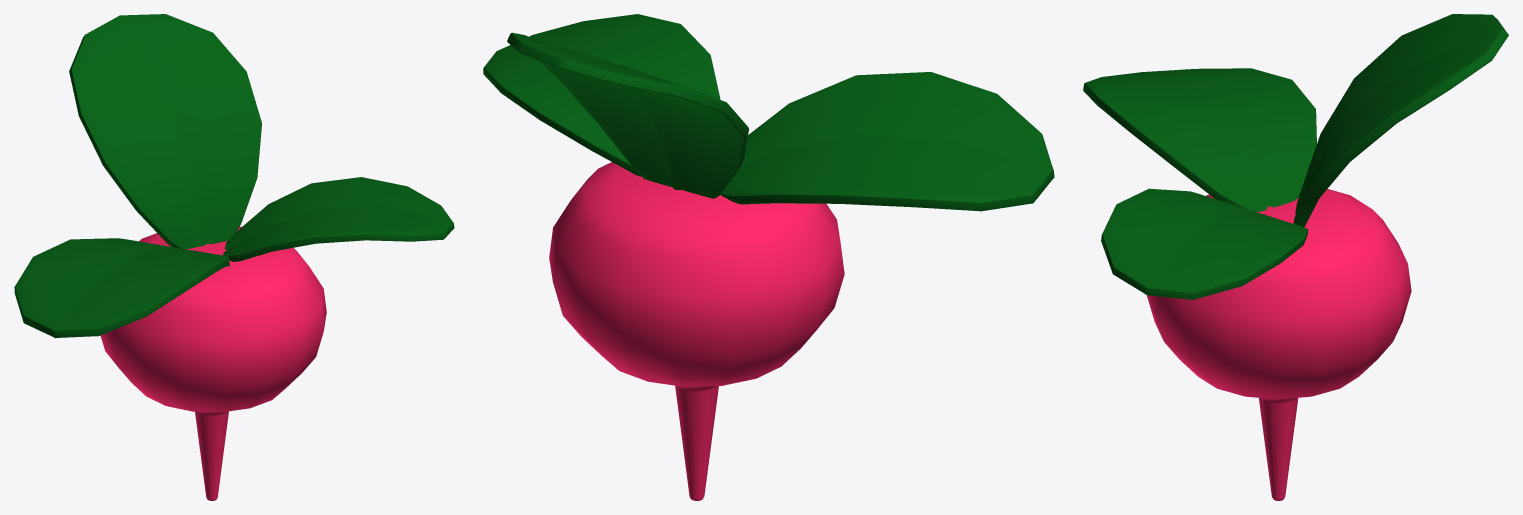
The model's file is Farm_1_Beet_2.glb.
The picture shows the model from 3 angles, left to right: view 1: azimuth 30°, elevation 25°; view 2: azimuth 150°, elevation 25°; view 3: azimuth 270°, elevation 25°; orthographic projection. The views are drawn at different scales.
Parts seen in each view (by area): view 1: Farm_1_Beet_2; view 2: Farm_1_Beet_2; view 3: Farm_1_Beet_2.
Boxes of the visible parts, box(x1,y1,x2,y2) form: Farm_1_Beet_2: box(14, 14, 454, 500); Farm_1_Beet_2: box(483, 14, 1054, 500); Farm_1_Beet_2: box(1083, 14, 1508, 500).
Bounding box in the file's own units: 0.5165 × 0.4863 × 0.3963.
1 material, 1 textured.
